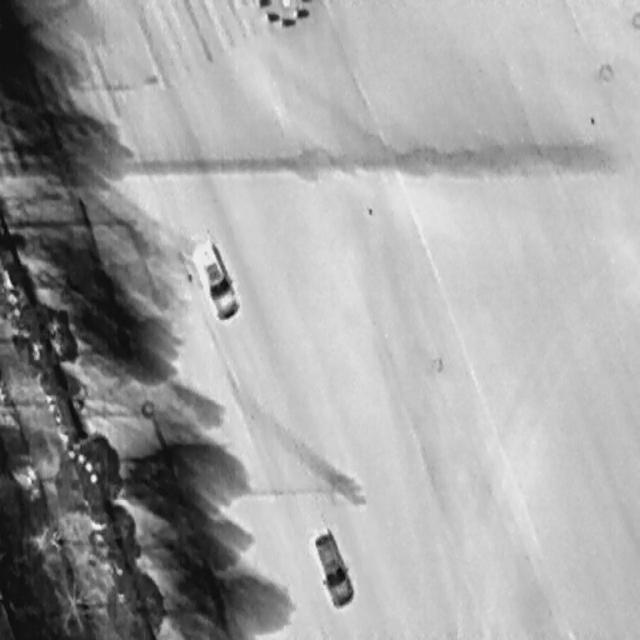Car: (187, 236, 240, 325), (309, 525, 356, 610)
